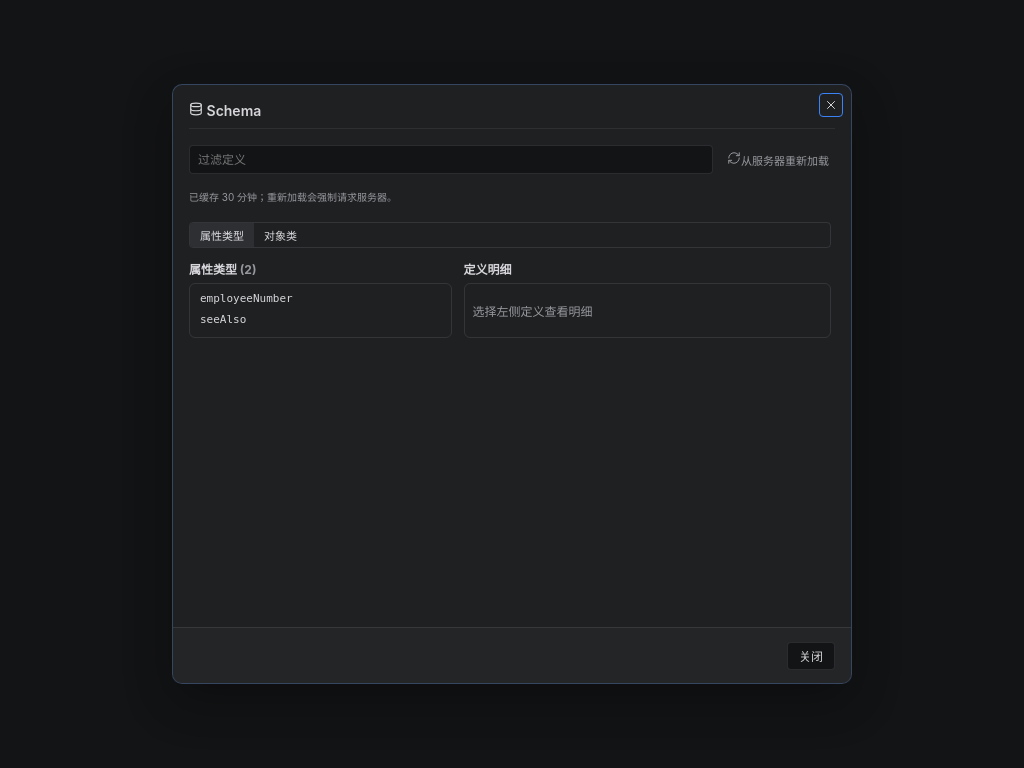
Scenario: SchemaPanel details pane › shows syntax, equality, value kind and referencing class for a selected attributeType
The width and height of the screenshot is (1024, 768).
Step 1. Click the button "employeeNumber" → [320, 298], box [200,292,440,304]
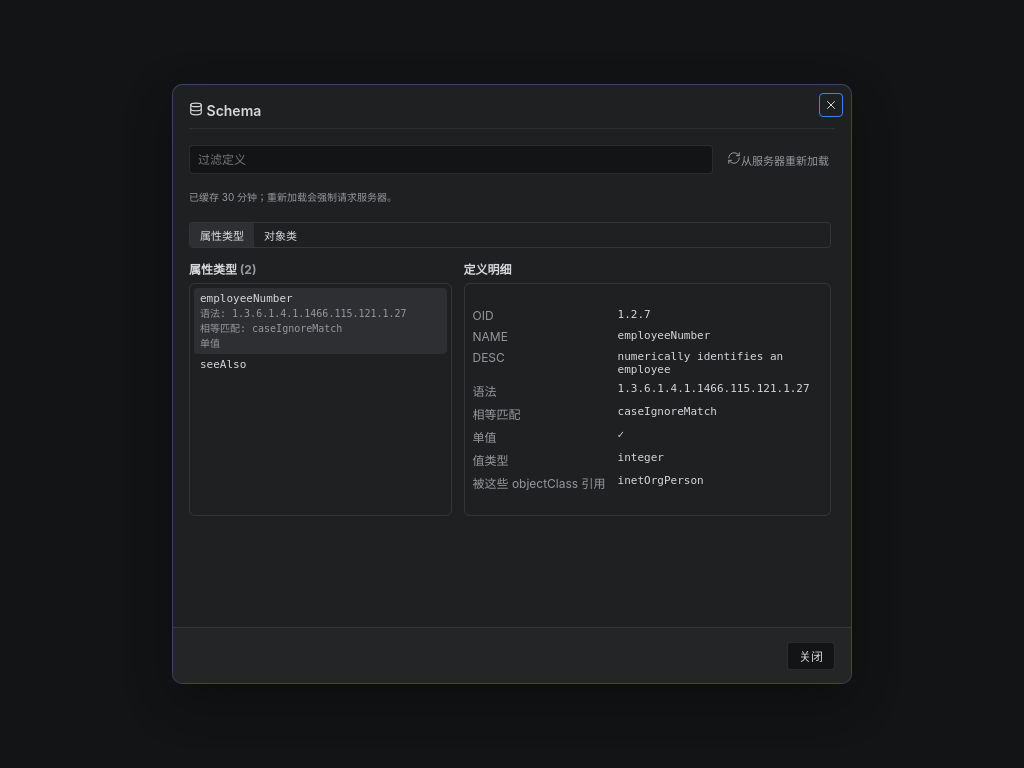
Expected: the element that starts with "定义明细" shows "1.2.7", [618,308,651,320]
Expected: the element that starts with "定义明细" shows "1.3.6.1.4.1.1466.115.121.1.27", [618,382,810,394]
Expected: the element that starts with "定义明细" shows "caseIgnoreMatch", [618,404,717,418]
